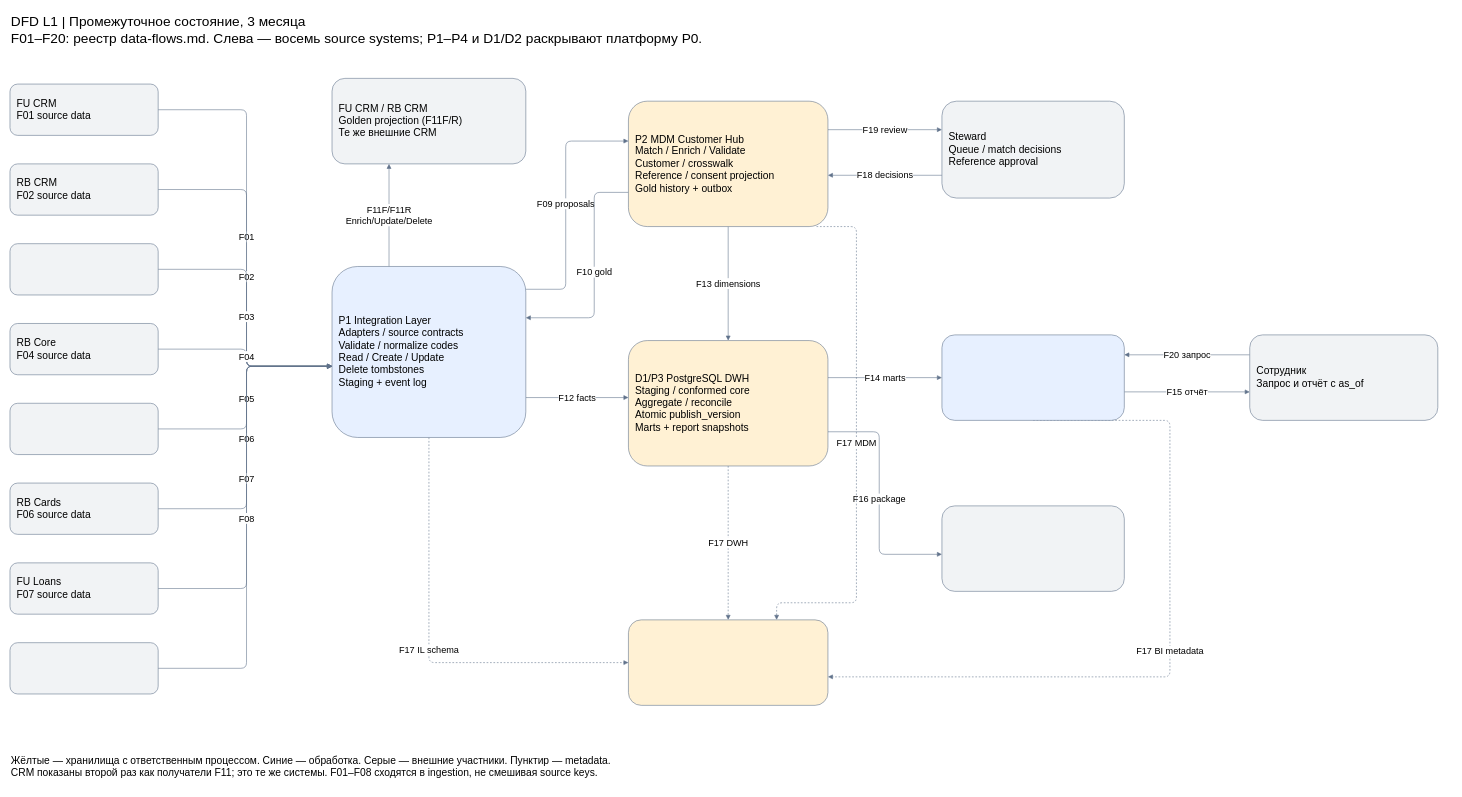
Image size: 1462x797. Some labels were removed from this diagram. Here are the shapes that lost their labels. From the top down, the centre of each, then its label:
(x=83, y=269): FU Core F03 source data
(x=1032, y=377): P4 BI / metrics Read / Aggregate Certified views only
(x=83, y=429): FU Cards F05 source data
(x=1032, y=548): Регуляторный потребитель Утверждённый export
(x=83, y=668): RB Loans F08 source data
(x=728, y=662): D2 DataHub Metadata / owner / lineage Без raw ПДн
